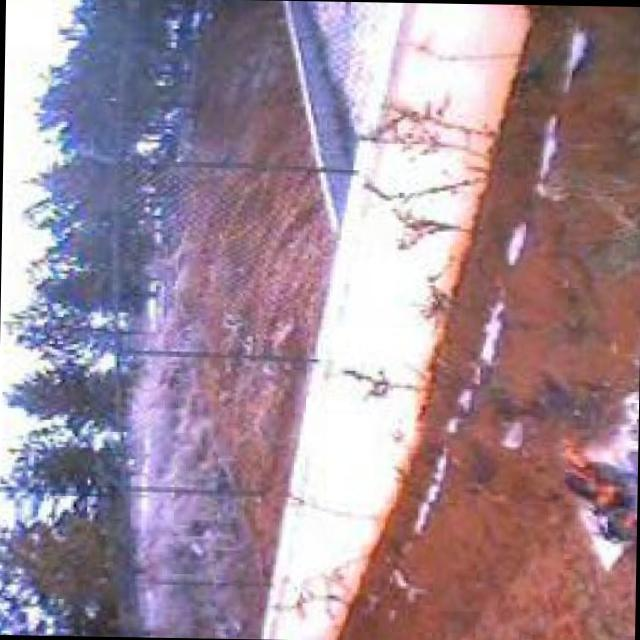Fire: (553, 430, 639, 559)
